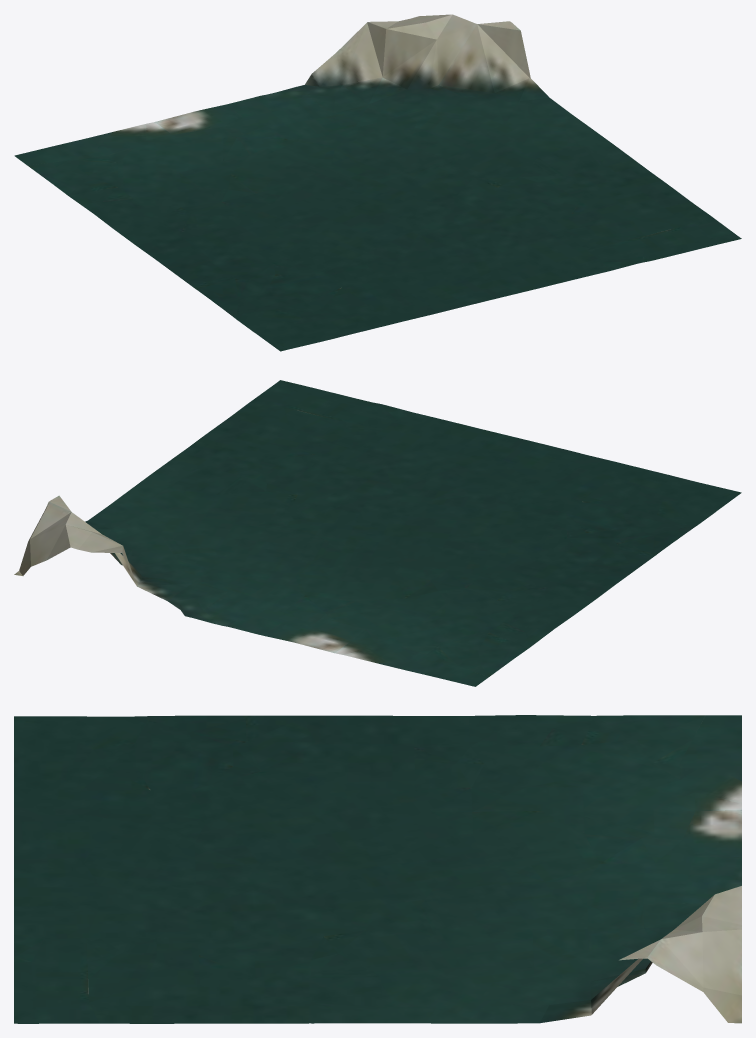
3 renders of one model, top to bottom at view 1: azimuth 30°, elevation 25°; view 2: azimuth 150°, elevation 25°; view 3: azimuth 270°, elevation 25°, orthographic. The views are drawn at different scales.
Size of the model in its own units: 52.22 by 5.36 by 52.22.
Materials: 3 (3 with a texture image).
